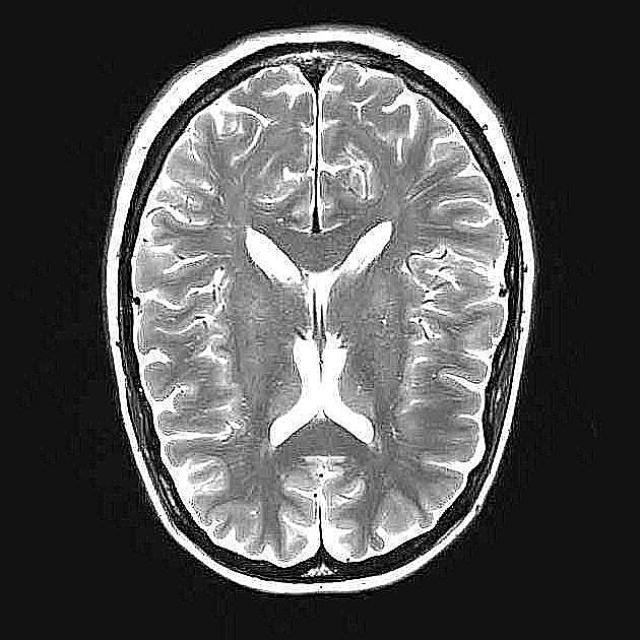notumor: (105, 27, 535, 599)
